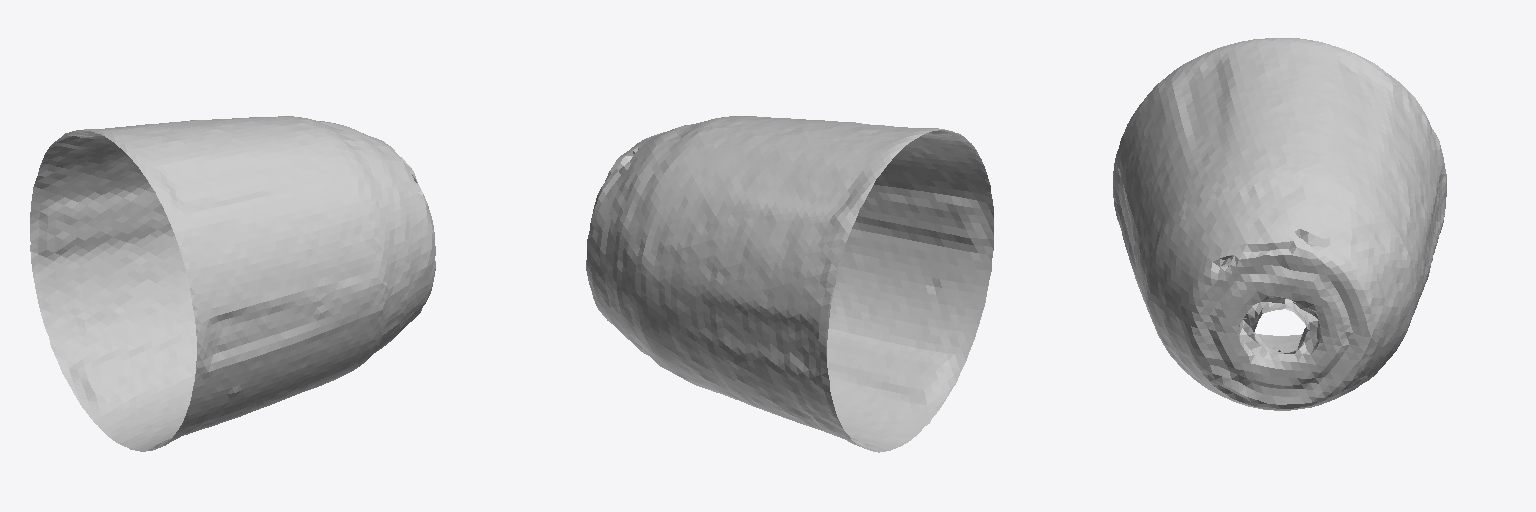
File: chuck.obj
The picture shows the model from 3 angles: view 1: azimuth 30°, elevation 25°; view 2: azimuth 150°, elevation 25°; view 3: azimuth 270°, elevation 25°; orthographic projection.
Parts seen in each view (by area): view 1: chuck_Bosch_PSR1800_LI-2.002; view 2: chuck_Bosch_PSR1800_LI-2.002; view 3: chuck_Bosch_PSR1800_LI-2.002.
Boxes of the visible parts, x1=… form: chuck_Bosch_PSR1800_LI-2.002: x1=30, y1=116, x2=435, y2=451; chuck_Bosch_PSR1800_LI-2.002: x1=586, y1=116, x2=993, y2=452; chuck_Bosch_PSR1800_LI-2.002: x1=1113, y1=38, x2=1446, y2=410.
Size of the model in its own units: 0.0355 by 0.0353 by 0.0359.